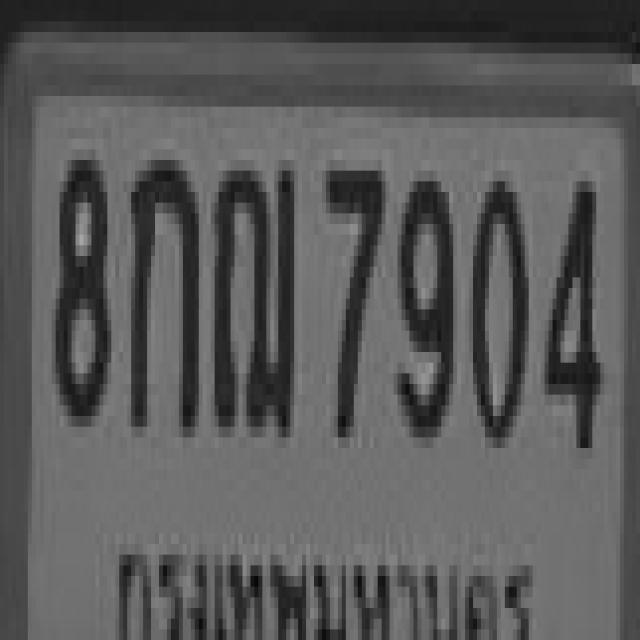0: (469, 171, 525, 437)
10GorGai: (127, 149, 195, 427)
21ChorChoe: (211, 149, 294, 427)
4: (541, 165, 596, 443)
7: (322, 155, 382, 432)
8: (52, 149, 107, 416)
9: (394, 160, 449, 427)
